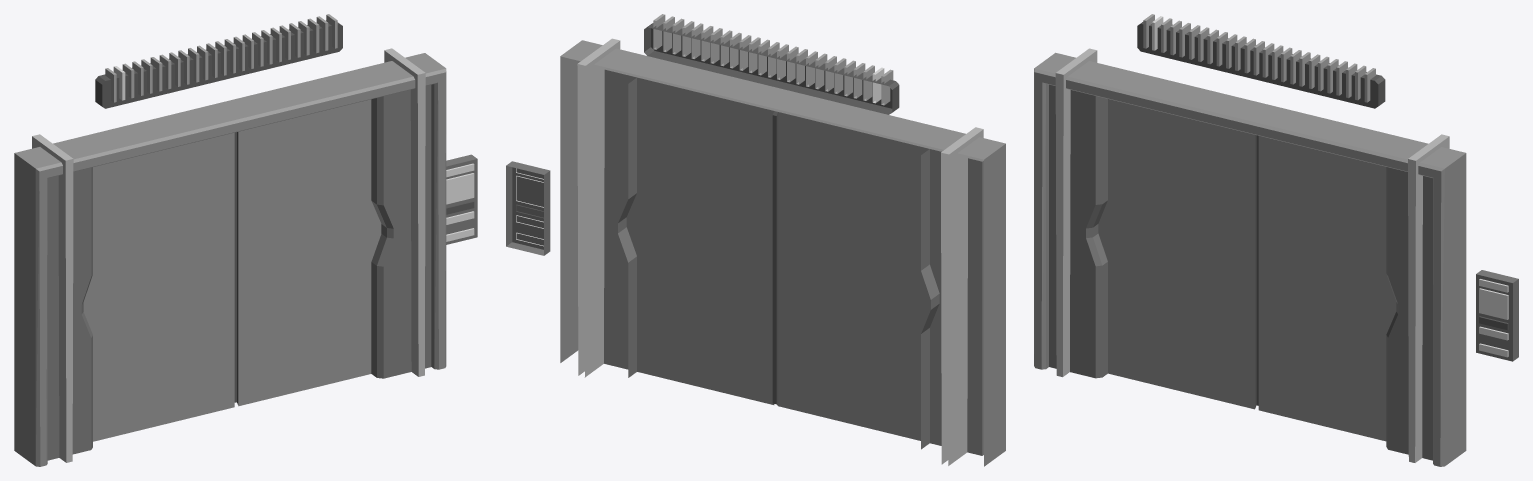
The model's file is door_elevator_static.FBX.
3 views of the same model, side by side, from view 1: azimuth 30°, elevation 25°; view 2: azimuth 150°, elevation 25°; view 3: azimuth 330°, elevation 25° (orthographic). The views are drawn at different scales.
Visible parts, largest first — view 1: elevator_static, elevtator_static_glow; view 2: elevator_static, elevtator_static_glow; view 3: elevator_static, elevtator_static_glow.
Boxes of the visible parts, box(x1,y1,x2,y2) form: elevator_static: box(14, 14, 477, 466); elevtator_static_glow: box(113, 66, 474, 241); elevator_static: box(506, 14, 1005, 466); elevtator_static_glow: box(516, 67, 884, 246); elevator_static: box(1034, 14, 1518, 466); elevtator_static_glow: box(1152, 16, 1508, 357).
Size of the model in its own units: 207 by 154 by 26.16.
